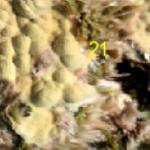alive: (4, 3, 146, 148)
